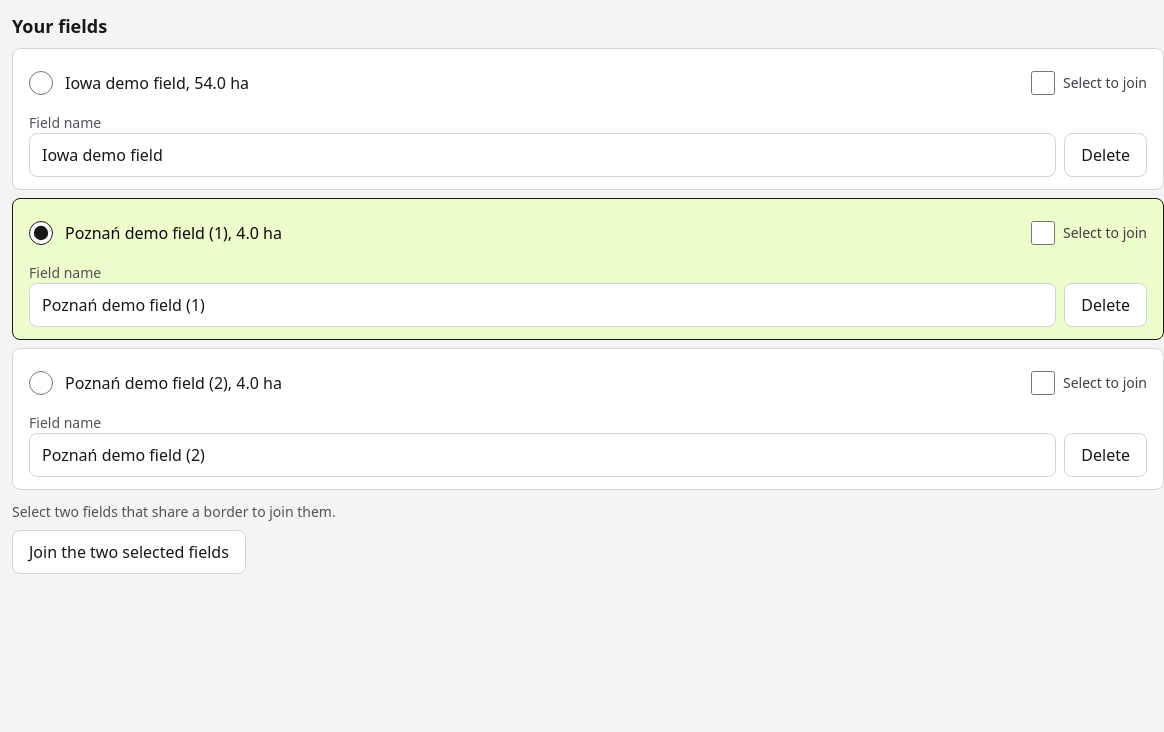
Test: FieldList joining › joins two fields that share a border into one and says so
The image size is (1164, 732).
Click the checkbox labelled "Select to join" in the row of "Poznań demo field (1), 4.0 ha" at (1043, 233), box top-left (1031, 221), bottom-right (1055, 245)
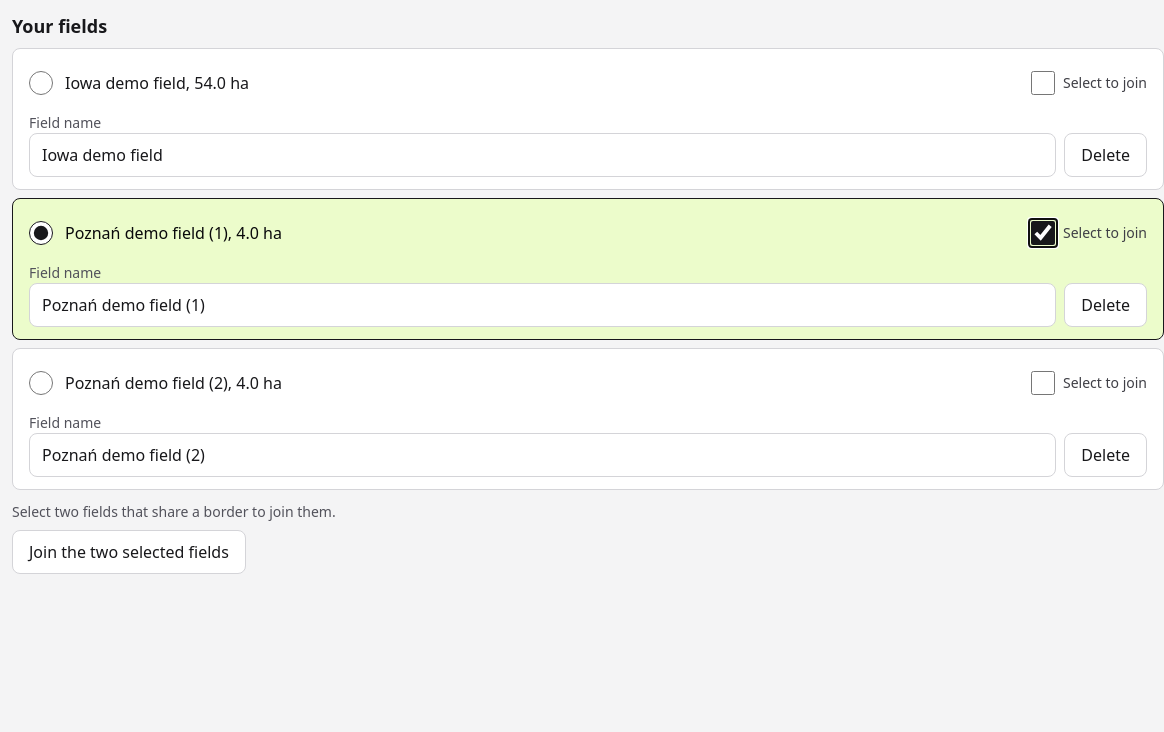
Click the checkbox labelled "Select to join" in the row of "Poznań demo field (2), 4.0 ha" at (1043, 383), box top-left (1031, 371), bottom-right (1055, 395)
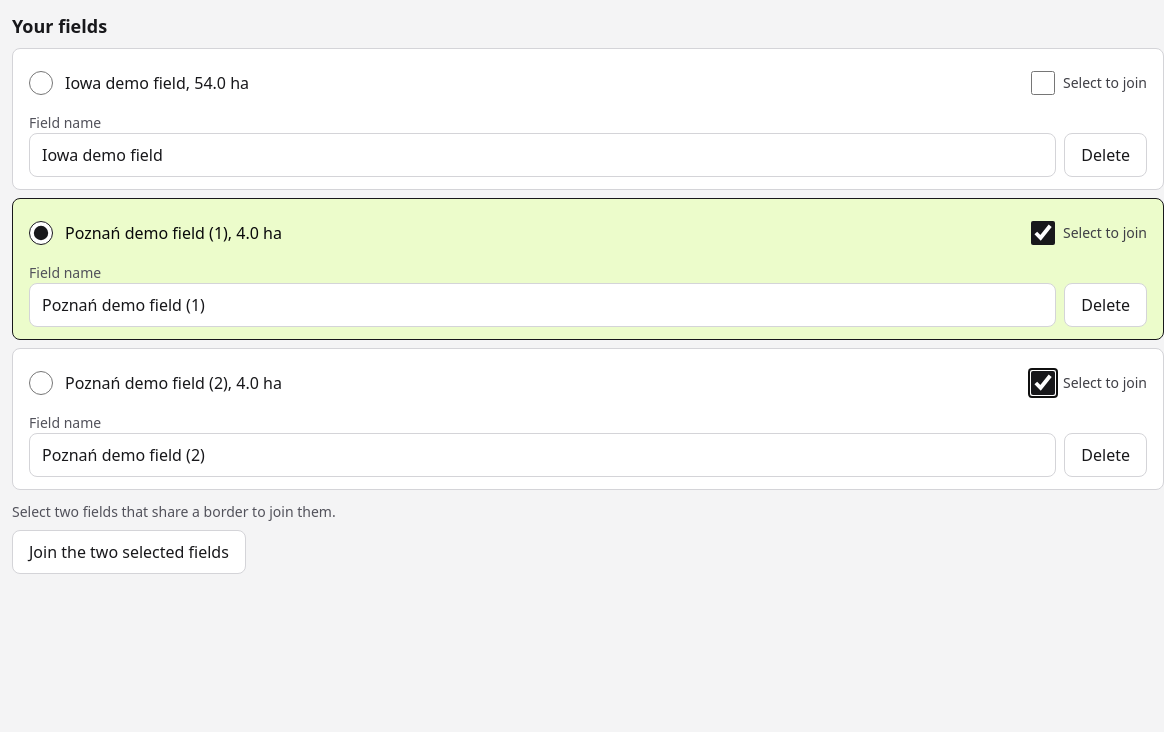
Click the button "Join the two selected fields" at (129, 552), box top-left (12, 530), bottom-right (246, 574)
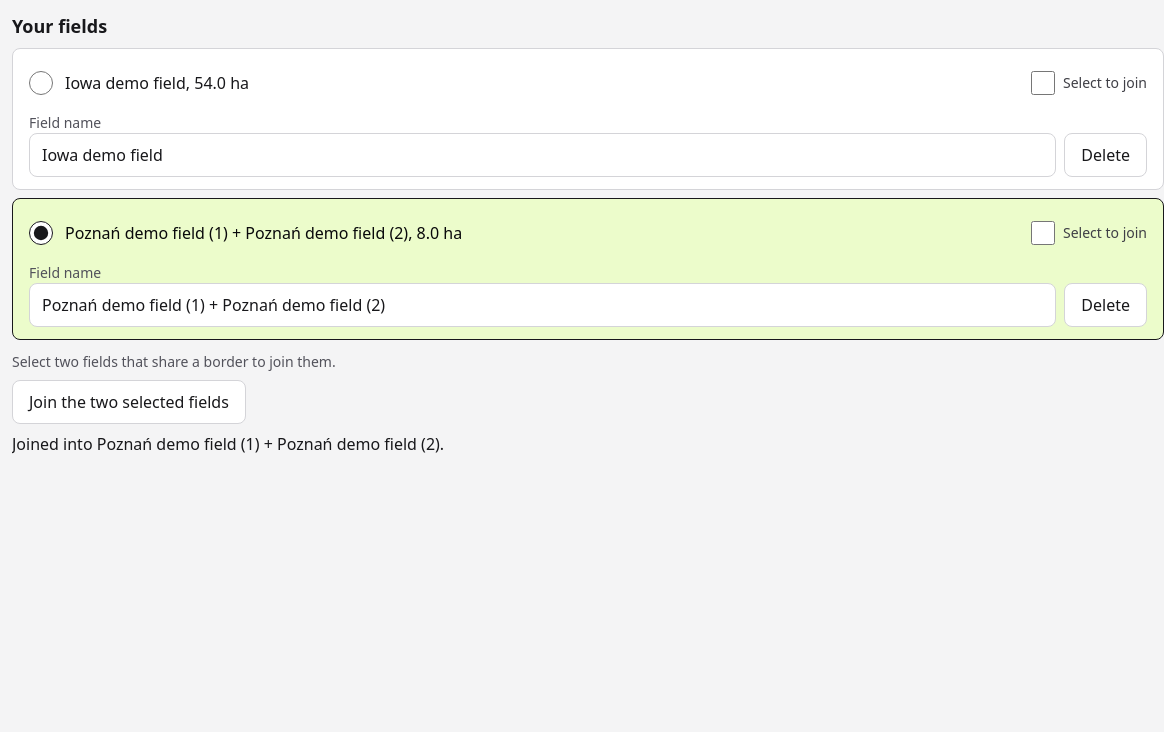
Expected: the button "Join the two selected fields" is disabled, top-left (12, 380), bottom-right (246, 424)
